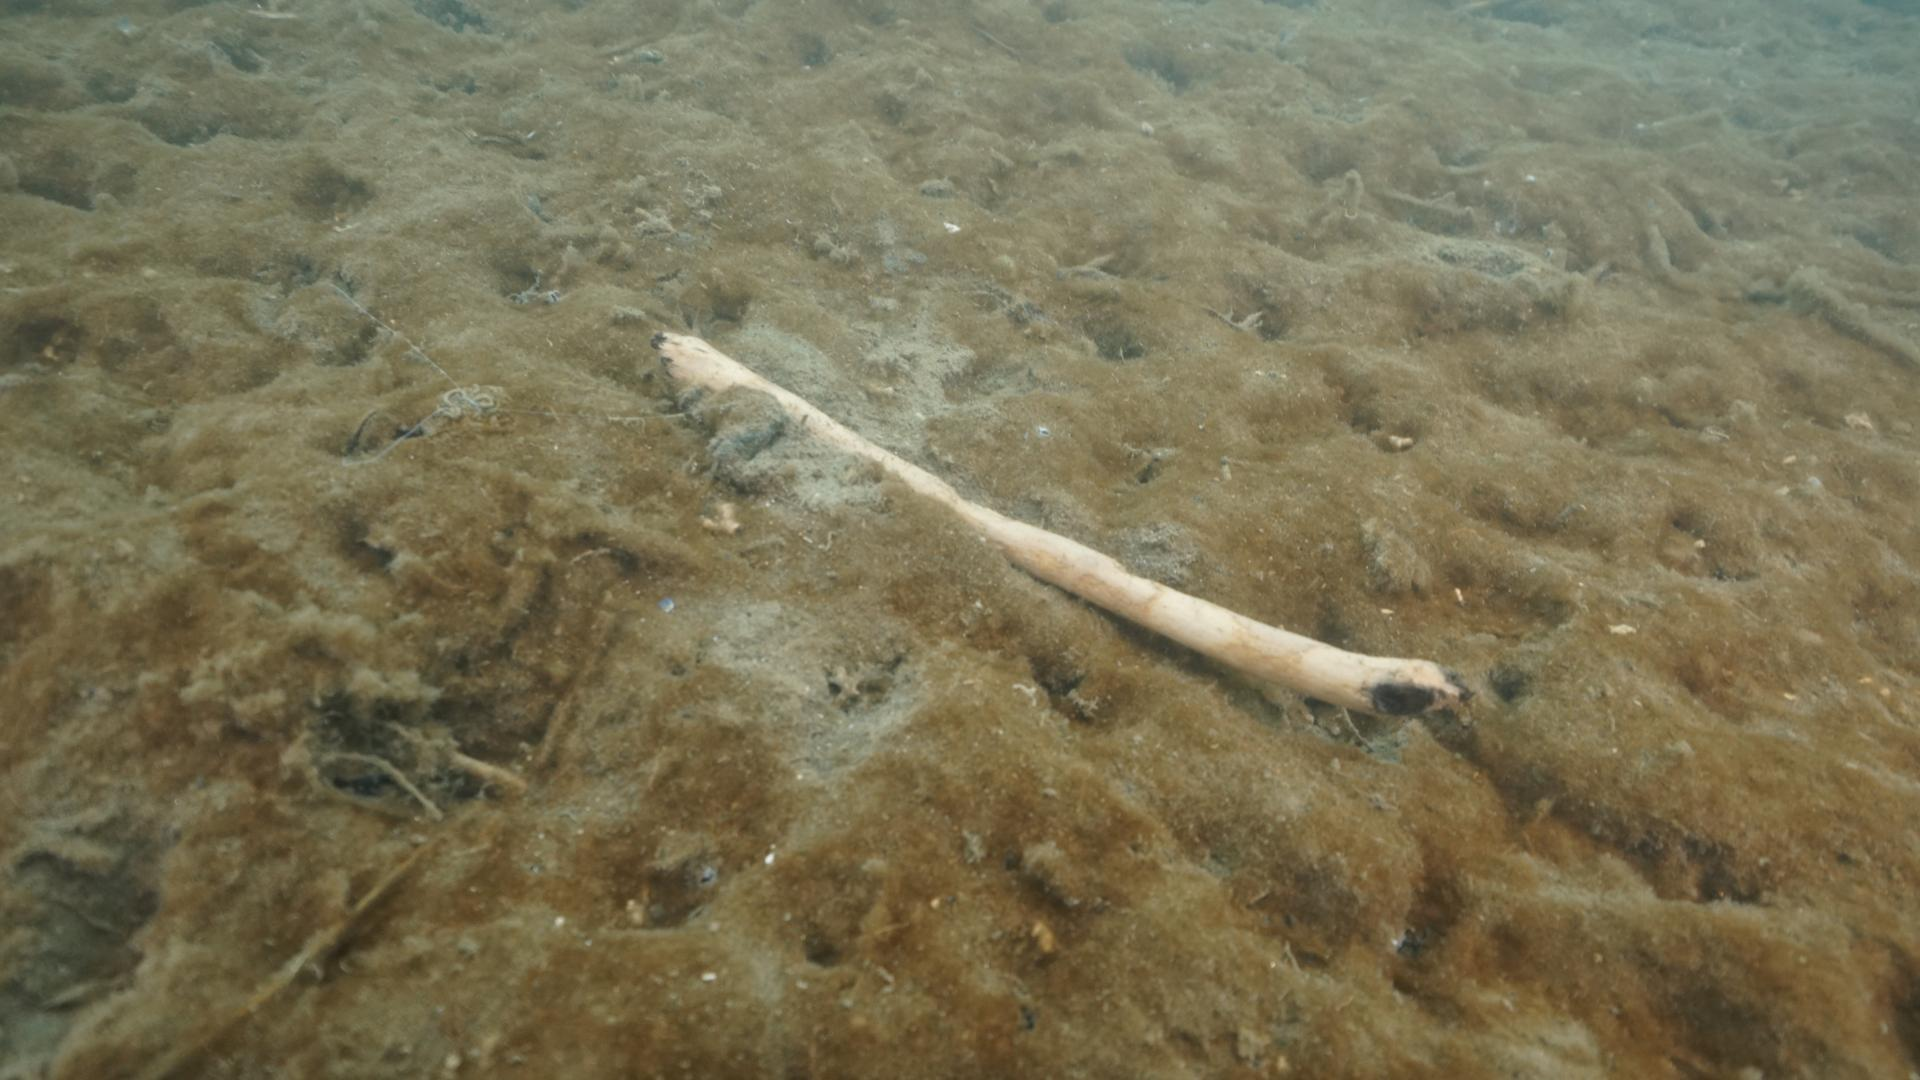wood: (651, 320, 1458, 727)
